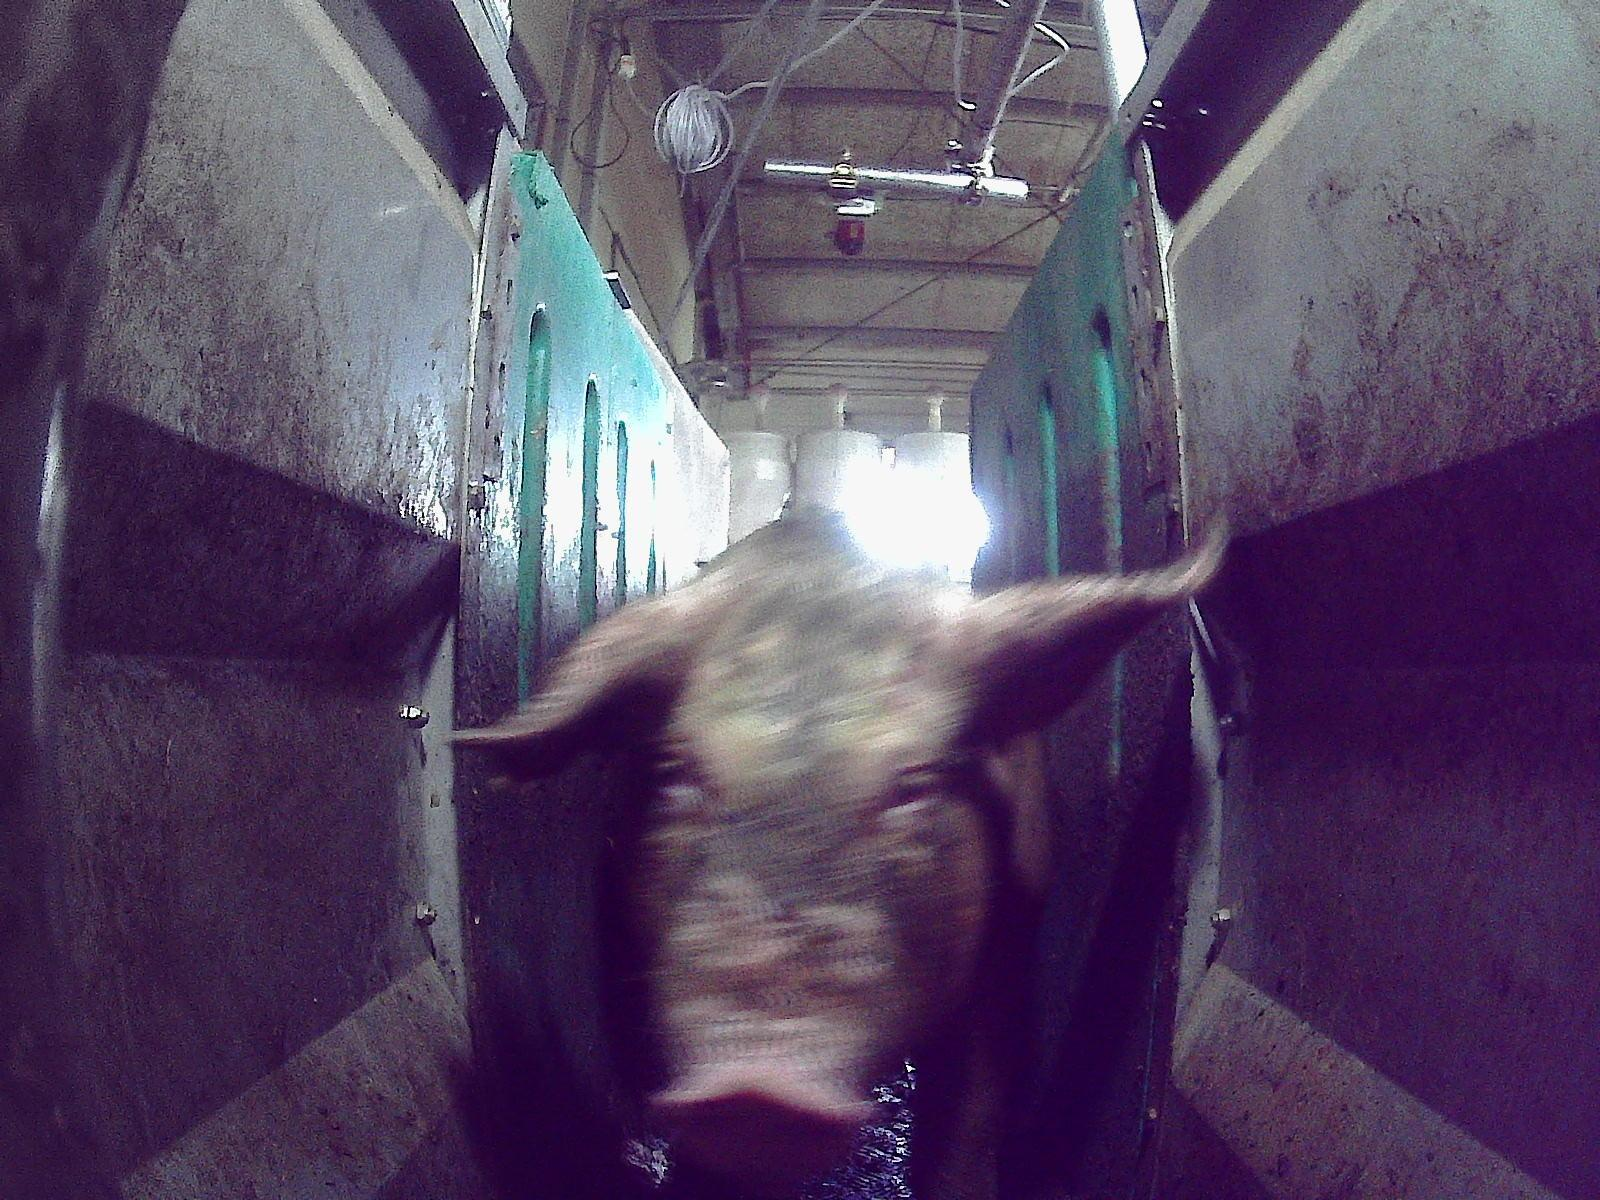Face: (613, 553, 1016, 1192)
